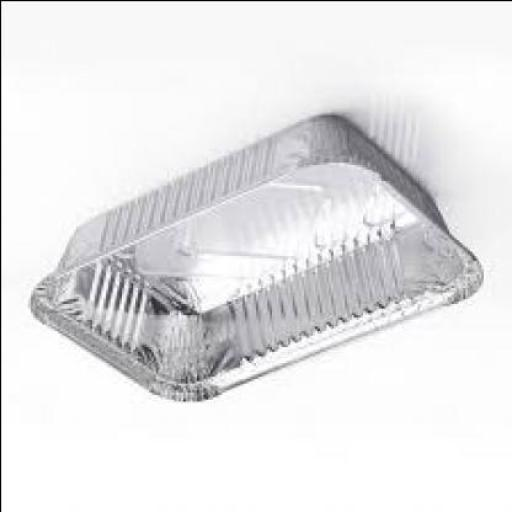metal: (29, 114, 485, 405)
